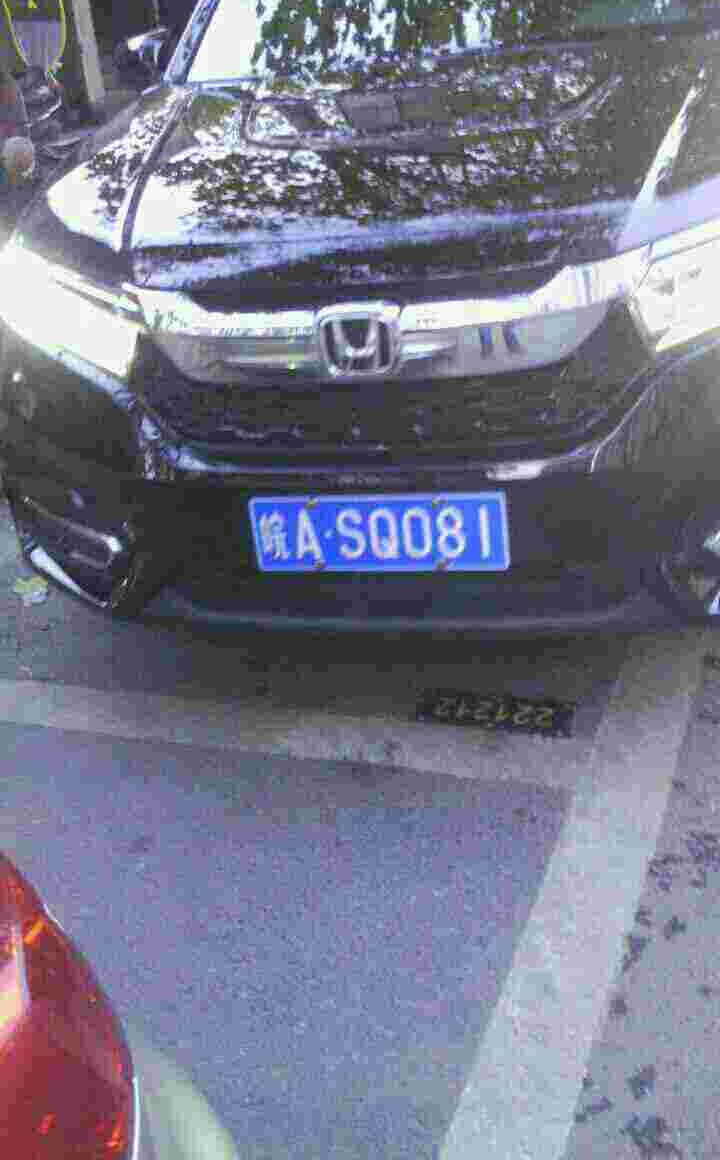license_plate: (252, 491, 500, 577)
